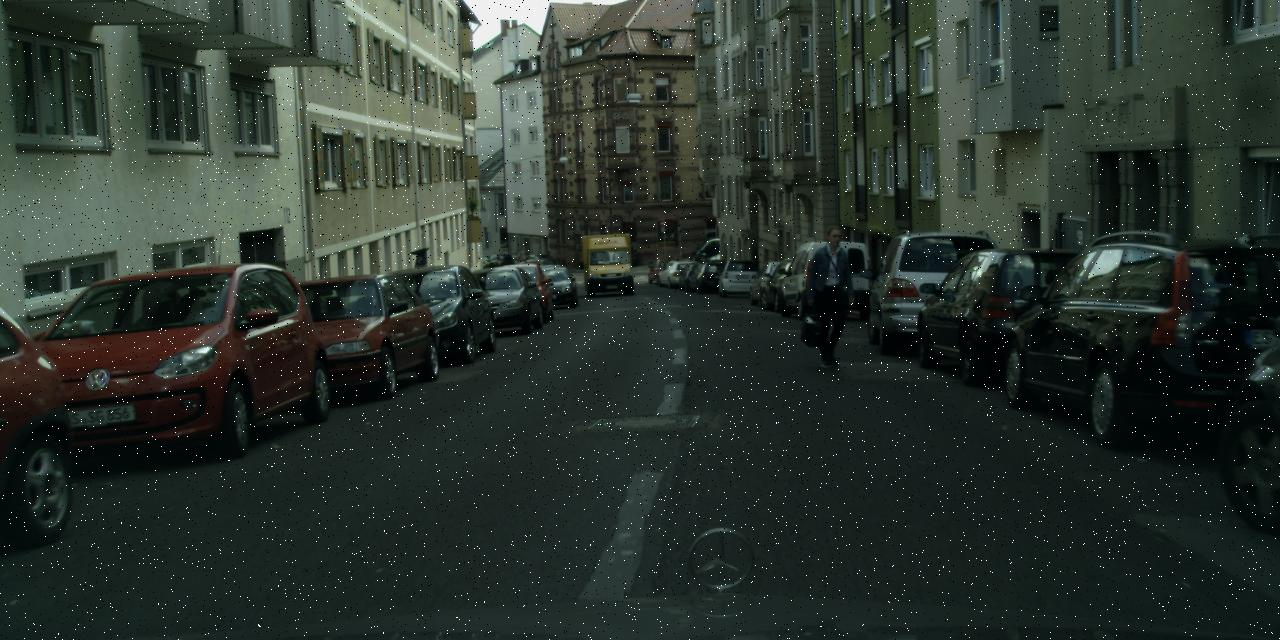ped: (803, 225, 861, 366)
